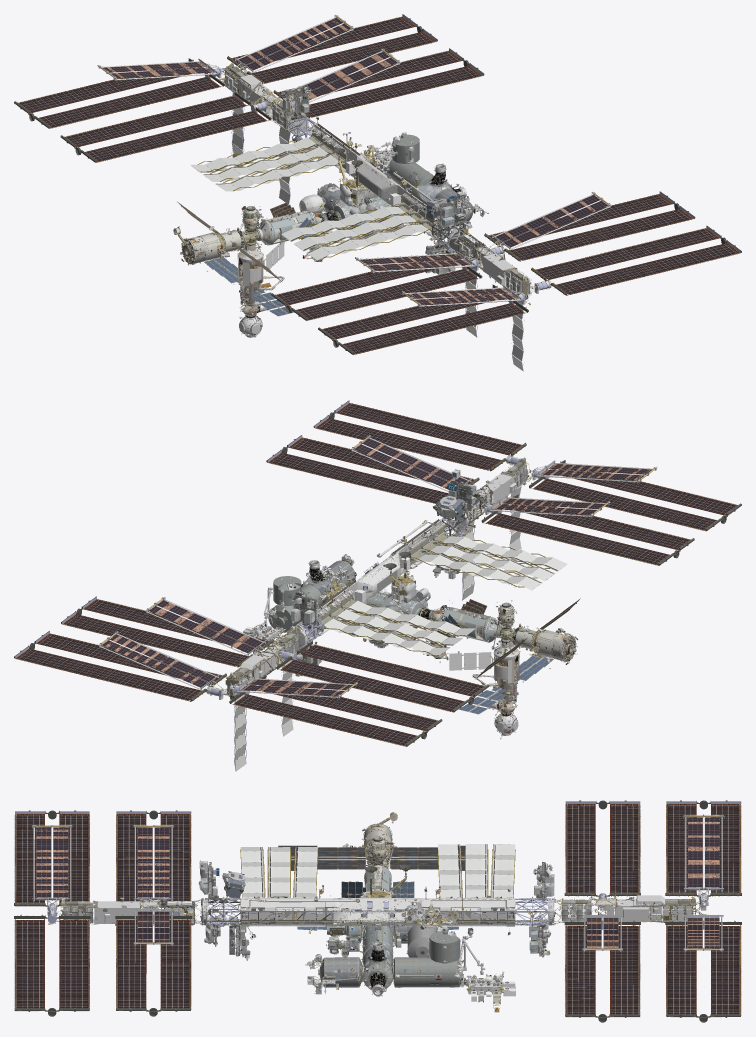
Rendered from iss-nasa-jsc-igoal-web.glb.
3 renders of one model, top to bottom at view 1: azimuth 30°, elevation 25°; view 2: azimuth 150°, elevation 25°; view 3: azimuth 270°, elevation 25°, orthographic. The views are drawn at different scales.
Parts seen in each view (by area): view 1: IGOAL_SSREF; view 2: IGOAL_SSREF; view 3: IGOAL_SSREF.
Boxes of the visible parts, bbox=[...] form: IGOAL_SSREF: bbox=[14, 14, 741, 371]; IGOAL_SSREF: bbox=[14, 400, 741, 771]; IGOAL_SSREF: bbox=[14, 800, 741, 1022].
Size of the model in its own units: 73.43 by 30.63 by 108.
42 materials, 41 textured.
